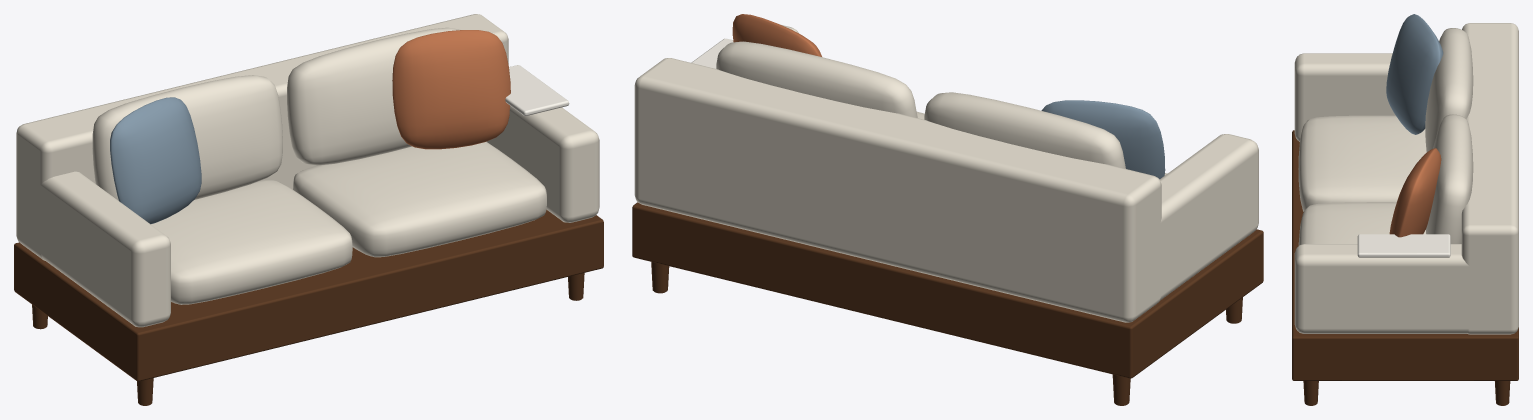
Rendered from sofa.glb.
The picture shows the model from 3 angles, left to right: view 1: azimuth 30°, elevation 25°; view 2: azimuth 150°, elevation 25°; view 3: azimuth 270°, elevation 25°; orthographic projection. The views are drawn at different scales.
Parts seen in each view (by area): view 1: sofa_base, sofa_assento.001, sofa_assento, sofa_braco, sofa_almofada.001, sofa_encosto_alm.001, sofa_encosto_alm, sofa_encosto, sofa_almofada, sofa_braco.001, sofa_manta; view 2: sofa_encosto, sofa_base, sofa_braco, sofa_encosto_alm, sofa_encosto_alm.001, sofa_almofada, sofa_almofada.001; view 3: sofa_braco.001, sofa_encosto, sofa_base, sofa_assento, sofa_braco, sofa_almofada, sofa_encosto_alm.001, sofa_encosto_alm, sofa_assento.001, sofa_almofada.001, sofa_manta, sofa_pe.002 (+1 smaller).
Part boxes in pixels (x1,y1,x2,y2): sofa_base: [14, 209, 603, 381]; sofa_assento.001: [293, 141, 546, 257]; sofa_assento: [151, 179, 352, 304]; sofa_braco: [21, 171, 170, 327]; sofa_almofada.001: [392, 30, 510, 149]; sofa_encosto_alm.001: [287, 27, 459, 165]; sofa_encosto_alm: [92, 75, 282, 200]; sofa_encosto: [16, 14, 508, 260]; sofa_almofada: [110, 97, 201, 224]; sofa_braco.001: [486, 106, 599, 222]; sofa_manta: [505, 65, 569, 115]; sofa_encosto: [634, 58, 1161, 322]; sofa_base: [632, 202, 1263, 378]; sofa_braco: [1140, 134, 1258, 310]; sofa_encosto_alm: [924, 92, 1125, 168]; sofa_encosto_alm.001: [716, 41, 917, 117]; sofa_almofada: [1041, 100, 1165, 179]; sofa_almofada.001: [732, 14, 821, 56]; sofa_braco.001: [1294, 244, 1503, 333]; sofa_encosto: [1461, 23, 1518, 334]; sofa_base: [1292, 130, 1518, 380]; sofa_assento: [1298, 115, 1426, 211]; sofa_braco: [1294, 53, 1395, 141]; sofa_almofada: [1386, 14, 1443, 134]; sofa_encosto_alm.001: [1425, 114, 1473, 243]; sofa_encosto_alm: [1425, 28, 1473, 152]; sofa_assento.001: [1298, 202, 1425, 245]; sofa_almofada.001: [1389, 148, 1441, 237]; sofa_manta: [1357, 234, 1450, 257]; sofa_pe.002: [1303, 381, 1318, 405].
Size of the model in its own units: 1.8 by 0.8684 by 0.83.
